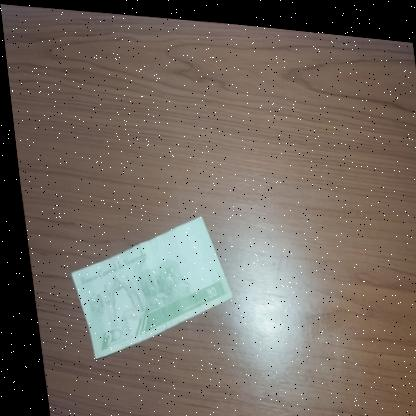fifty-back-vef: (56, 199, 234, 370)
